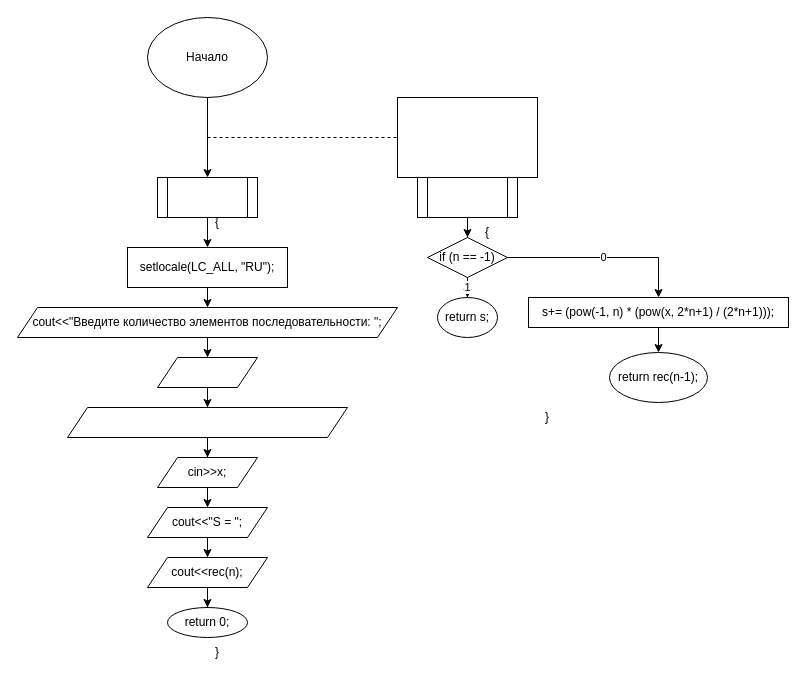
This 806x685 diagram has some shape labels left out. The shapes that lost their labels are listed below. From the top down, each one's centre as x and y in pixels, then its label:
(467,137): #include <iostream> #include <math.h> using namespace std; int n, x; float s=0;
(207,197): int main()
(467,197): float rec(int n)
(207,372): cin>>n;
(207,422): cout<<"Введите значение переменной x: ";
